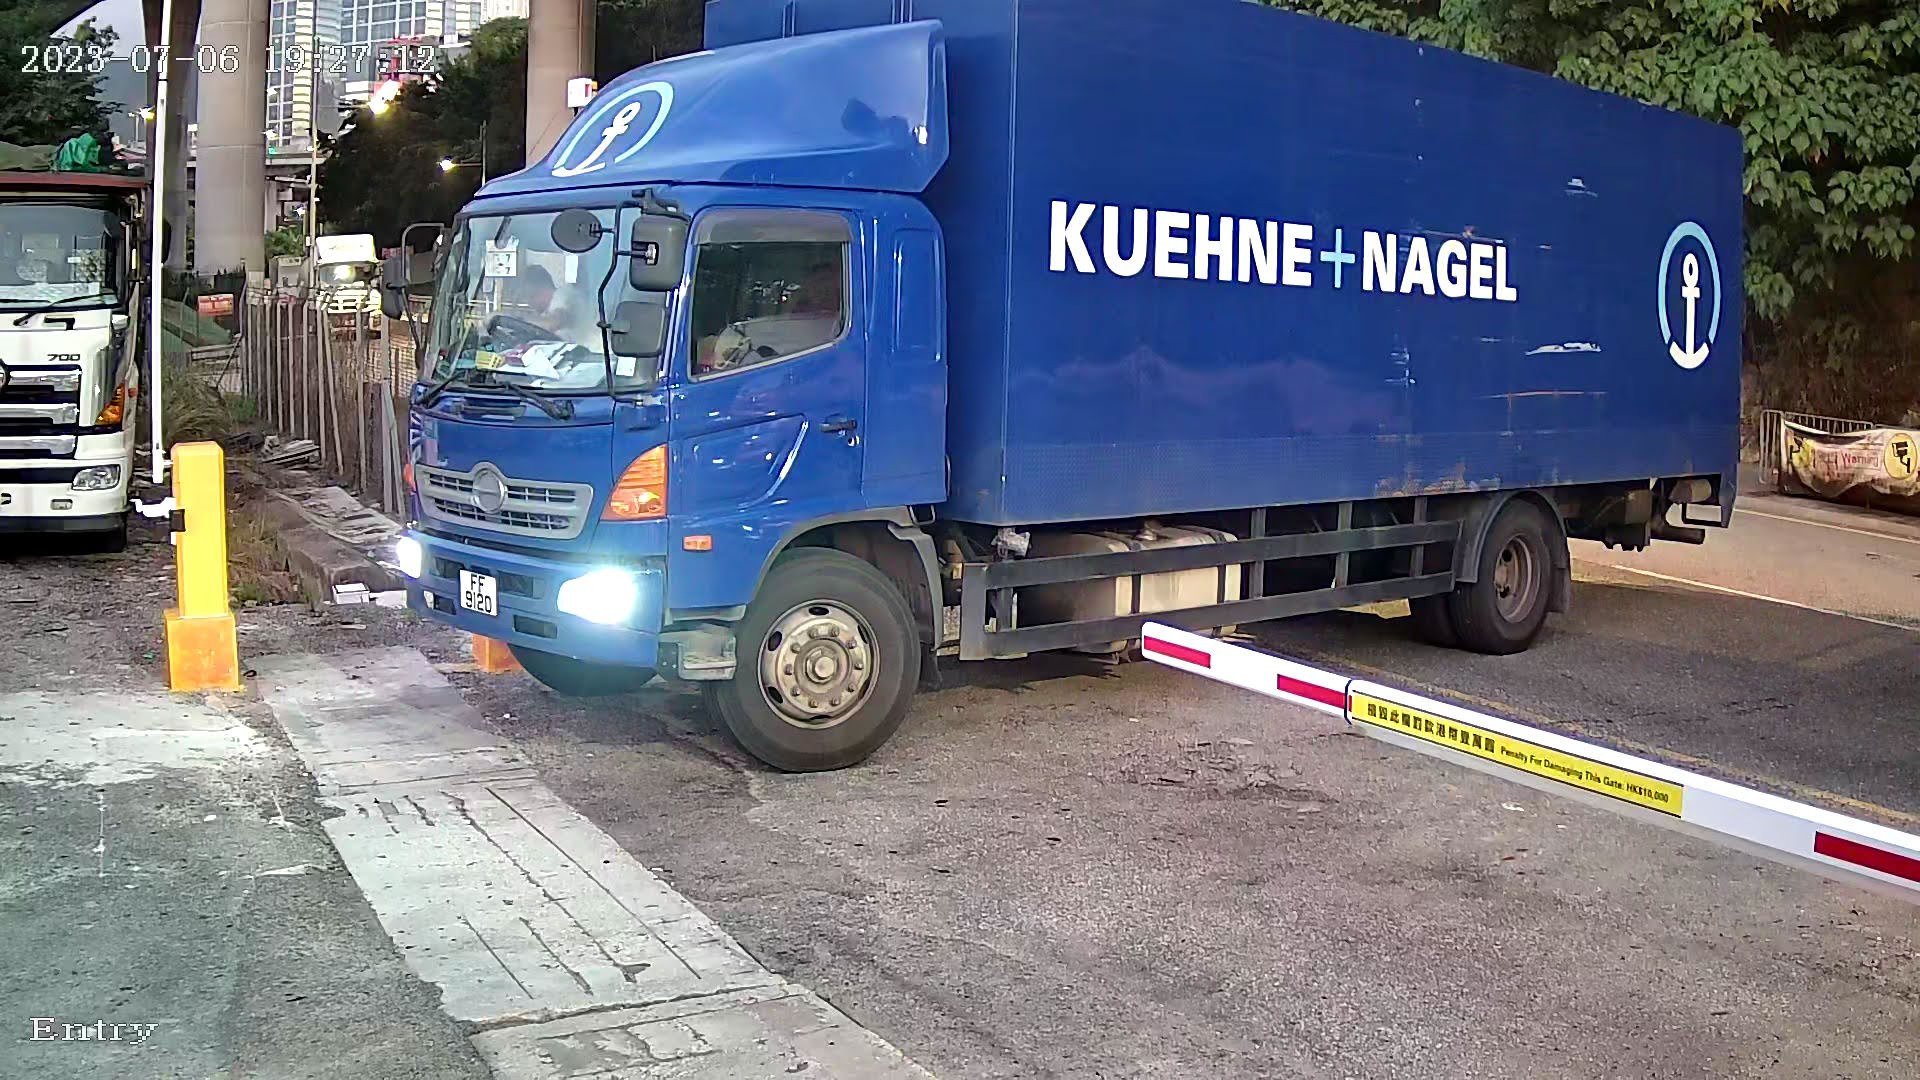truck_large: (357, 1, 1778, 785)
